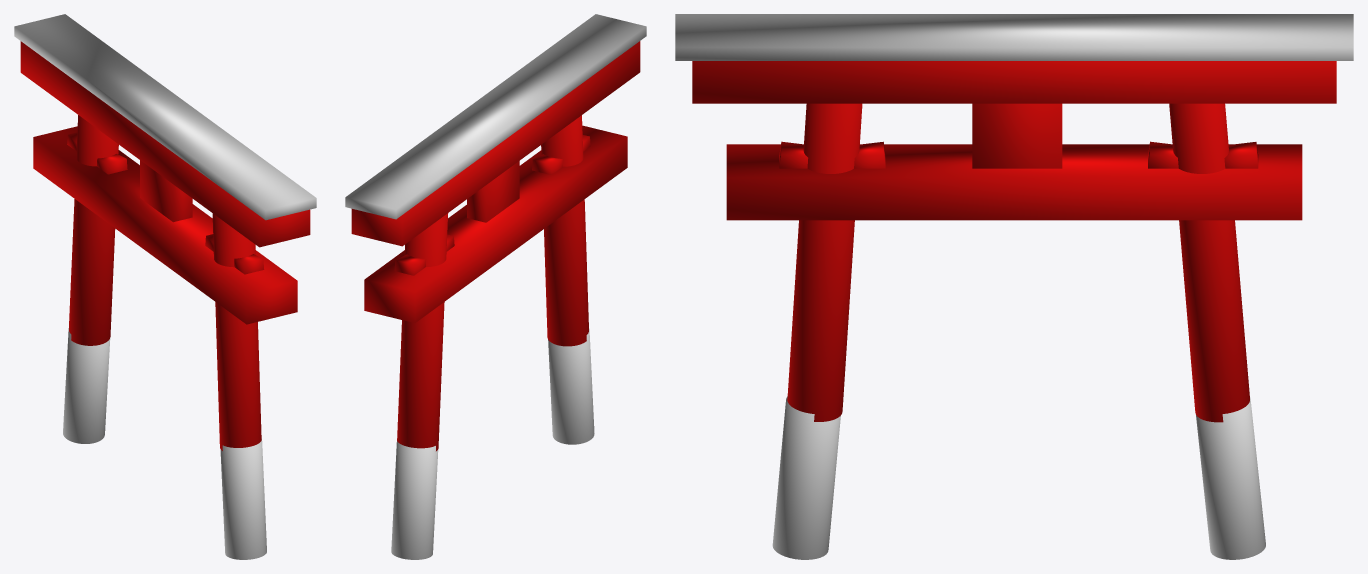
Rendered from Torii.fbx.
3 renders of one model, left to right at view 1: azimuth 30°, elevation 25°; view 2: azimuth 150°, elevation 25°; view 3: azimuth 270°, elevation 25°, orthographic. The views are drawn at different scales.
Visible parts, largest first — view 1: Cylinder.002; view 2: Cylinder.002; view 3: Cylinder.002.
Boxes of the visible parts, bbox=[...] form: Cylinder.002: bbox=[14, 14, 316, 559]; Cylinder.002: bbox=[345, 14, 646, 559]; Cylinder.002: bbox=[675, 14, 1353, 559].
Size of the model in its own units: 216 by 1556 by 1845.
